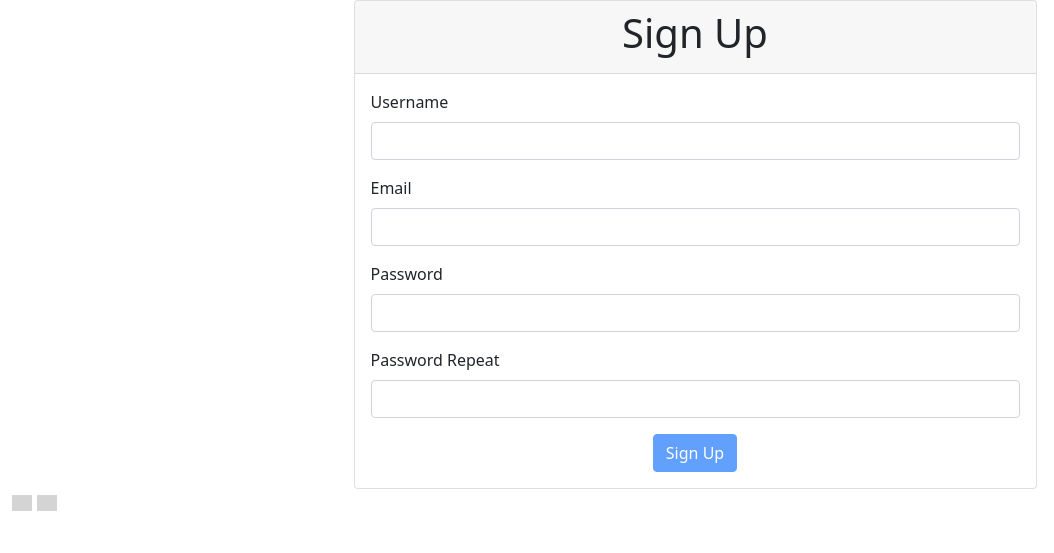
Test: Sign Up Page › Interactions › displays Username cannot be null for username
Step 1. Type "ashish kapoor" into the field labelled "Username" → (695, 141), box [370,122,1020,160]
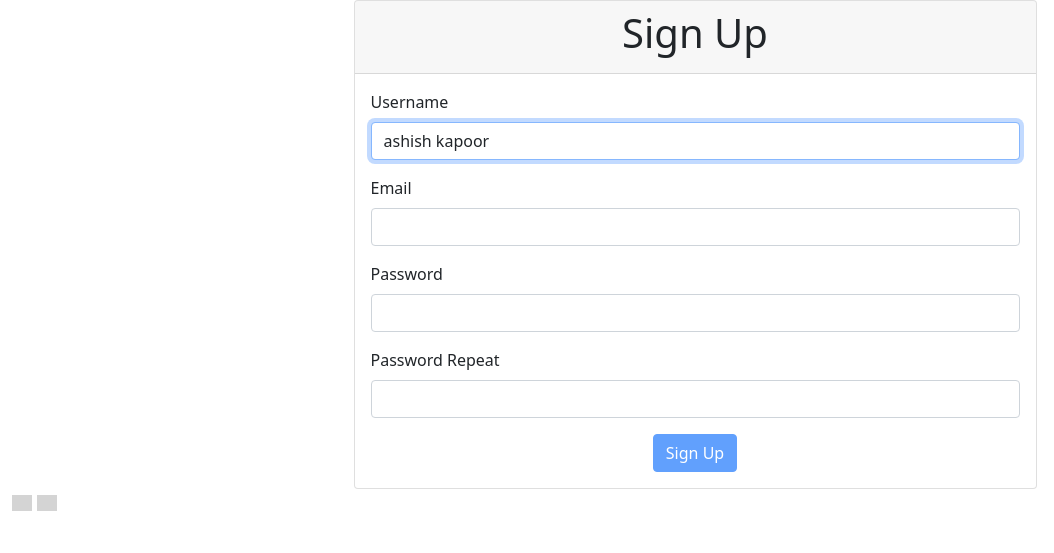
Step 2. Type "ashish@kapoor.com" into the field labelled "Email" → (695, 227), box [370,208,1020,246]
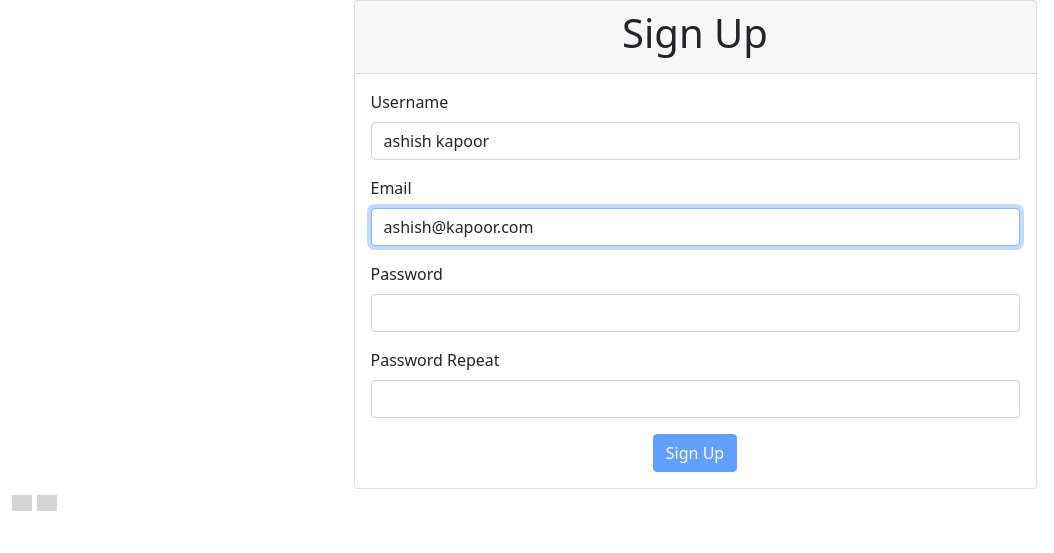
Step 3. Type "P4ssword" into the password field labelled "Password" → (695, 313), box [370,294,1020,332]
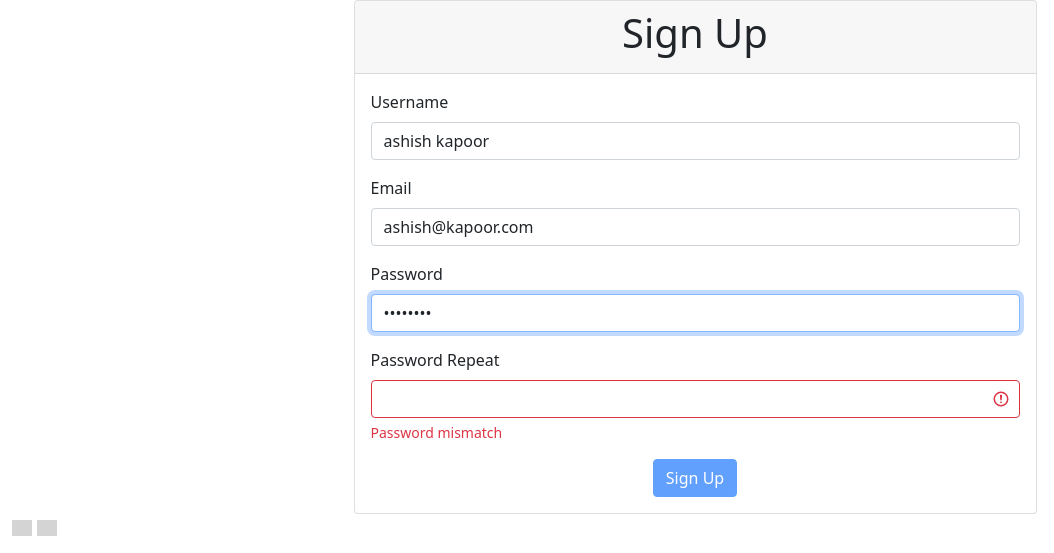
Step 4. Type "P4ssword" into the password field labelled "Password Repeat" → (695, 399), box [370,380,1020,418]
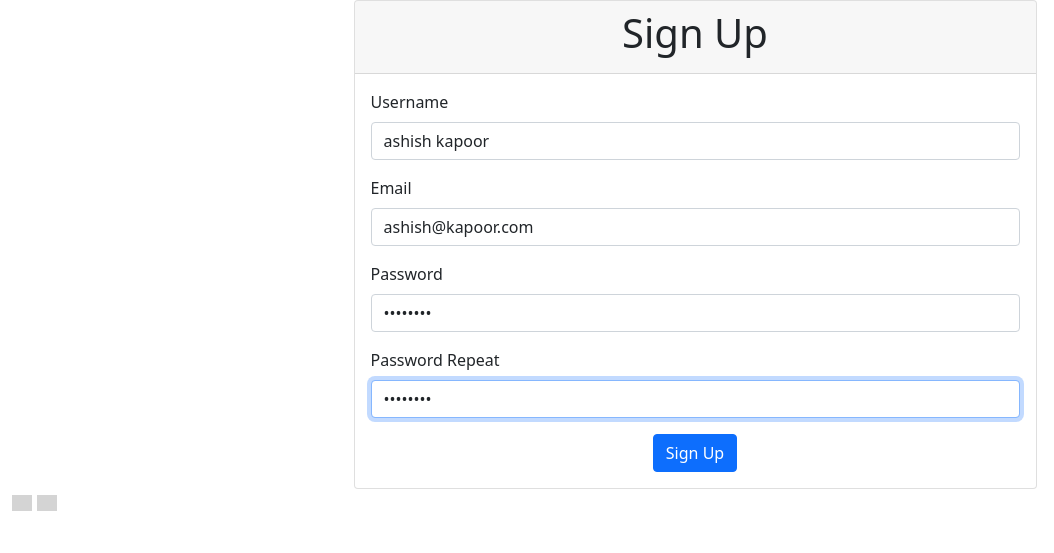
Step 5. Click the button → (695, 453), box [653,434,737,472]
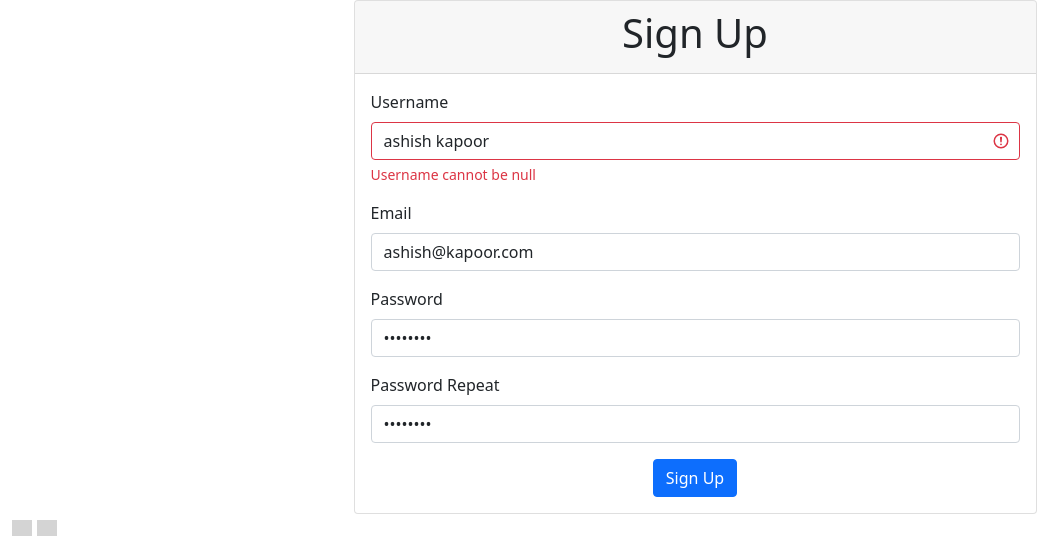
expect the text "Username cannot be null" is shown: met, box [370,165,536,184]
